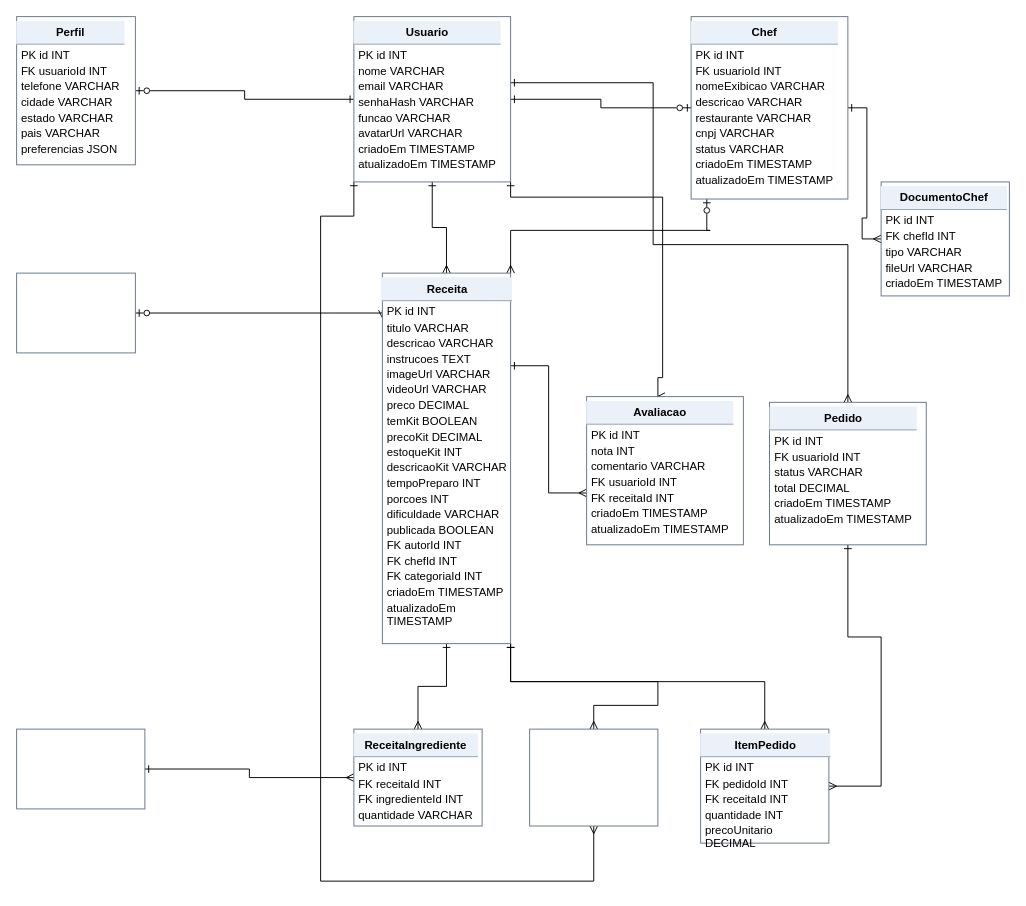
The diagram is 1026 pixels wide and 906 high, and some of its shapes have lost their labels. Here are the shapes that lost their labels. From the top down, the box of each, then its label:
(16, 272, 135, 353): Categoria PK id INT nome VARCHAR descricao VARCHAR
(16, 728, 145, 809): Ingrediente PK id INT nome VARCHAR criadoEm TIMESTAMP
(529, 728, 658, 826): Favorito PK id INT FK usuarioId INT FK receitaId INT criadoEm TIMESTAMP
